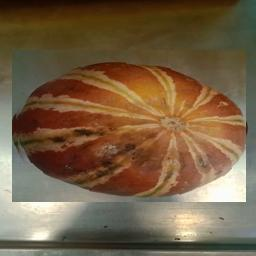Melon Rotten: (12, 50, 246, 202)
